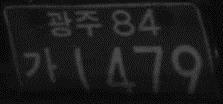1: (72, 44, 93, 95)
4: (103, 45, 137, 95), (138, 7, 161, 35)
7: (132, 43, 164, 95)
8: (111, 7, 136, 38)
9: (170, 43, 203, 97)
가: (22, 45, 59, 83)
광주_O: (46, 7, 103, 40)
